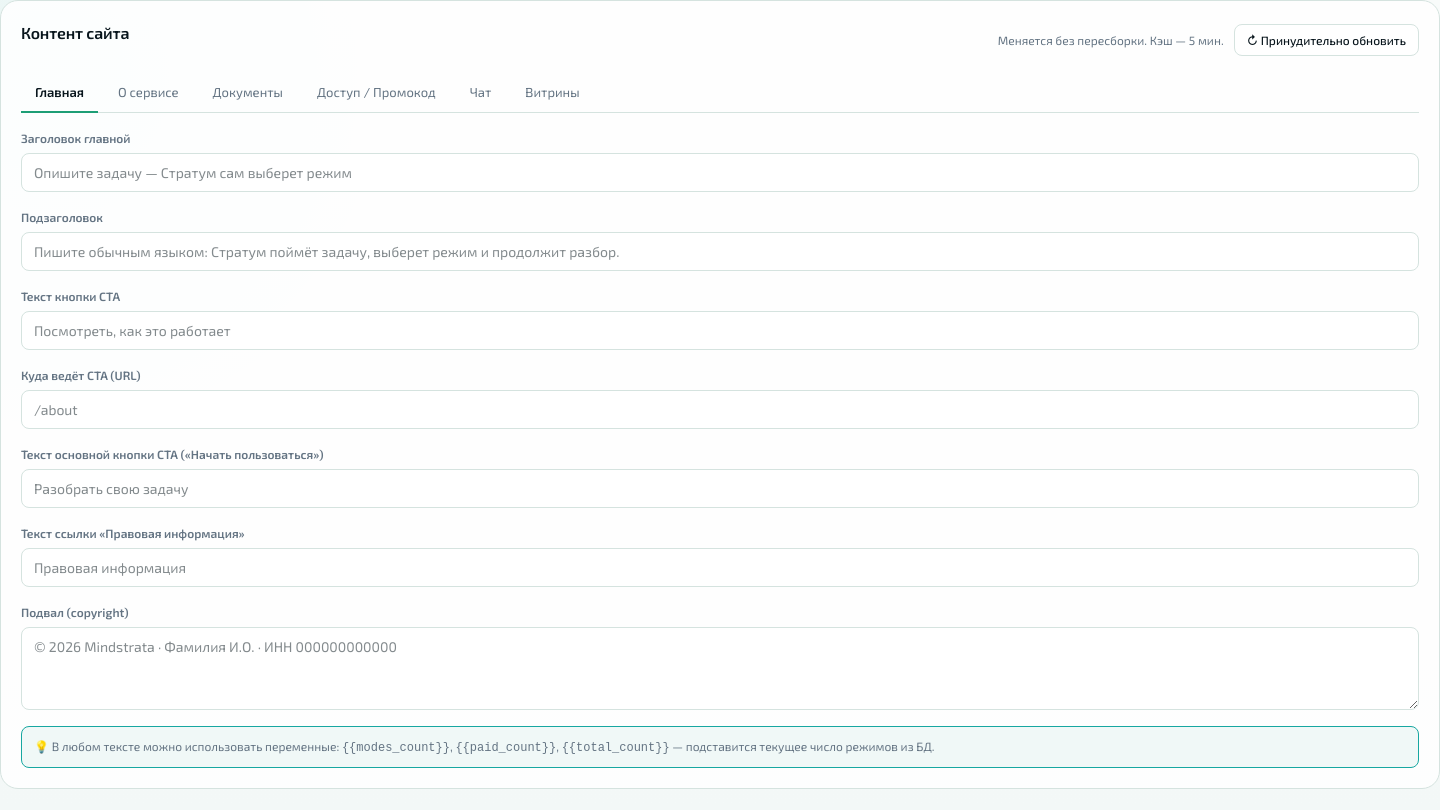
Test: AdminContentTab — auto-save flow › вкладка «Чат» даёт редактировать предупреждение перед окончанием сообщений
Click the button "Чат" at x=481, y=94, box [456, 75, 505, 112]
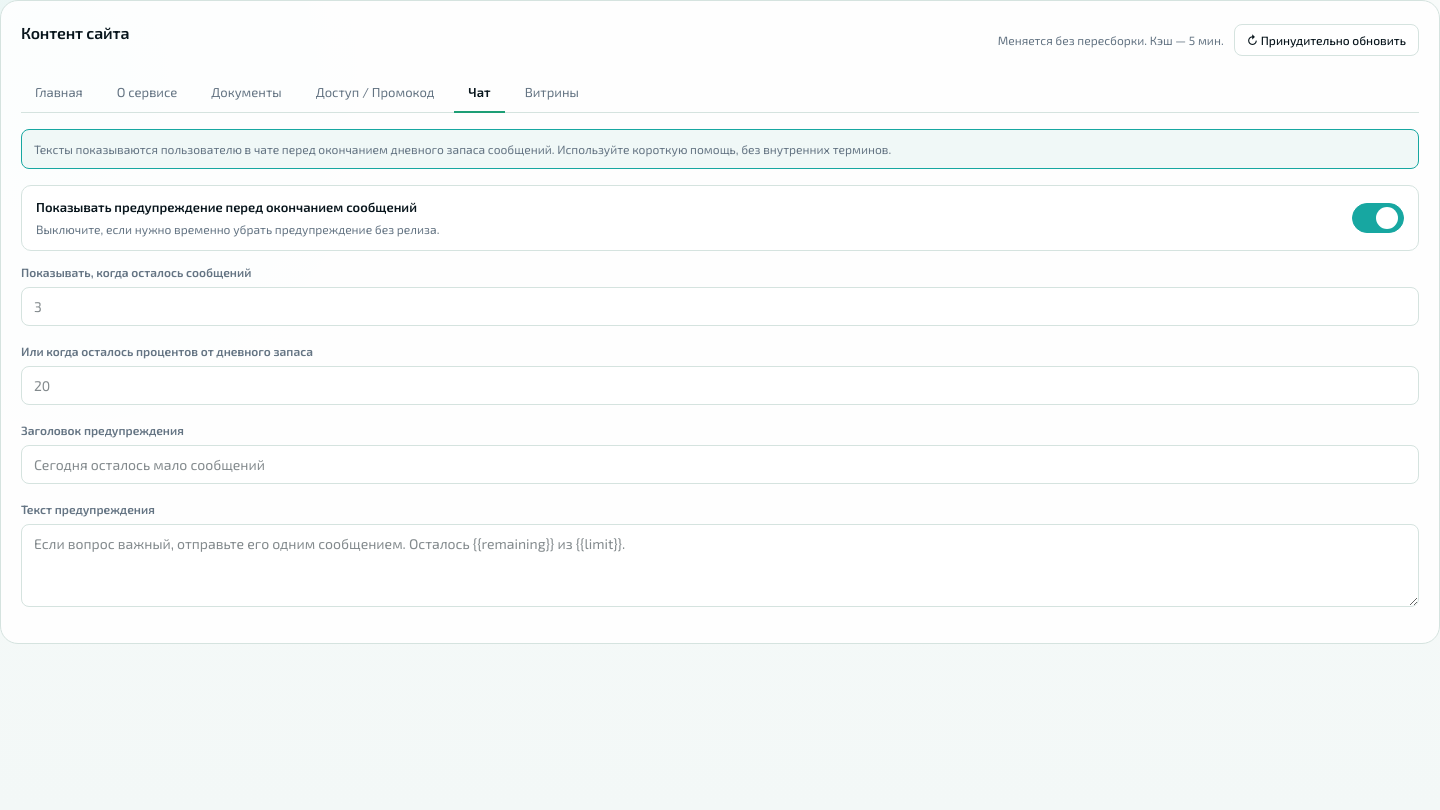
Expected: the text "Показывать предупреждение перед окончанием сообщений" is shown, [36, 198, 417, 217]
Expected: the text "Заголовок предупреждения" is shown, [21, 421, 184, 439]
Expected: the text "Текст предупреждения" is shown, [21, 500, 155, 518]
